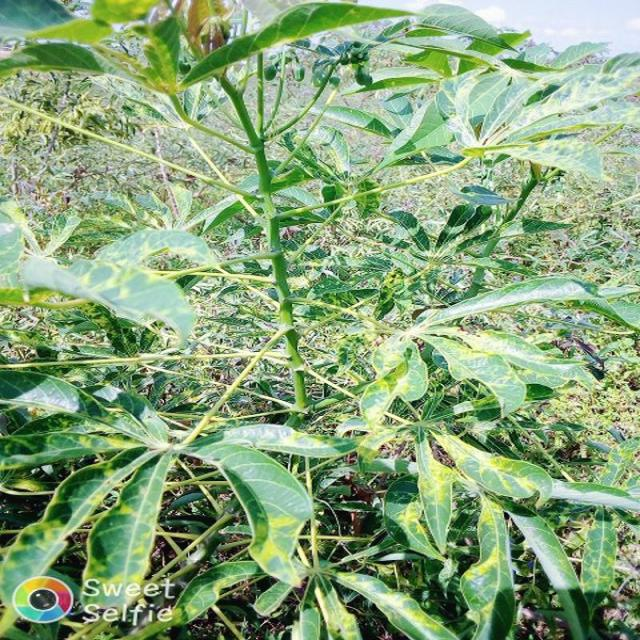Mosaico: (15, 394, 313, 569), (338, 473, 634, 633), (341, 354, 541, 514)
